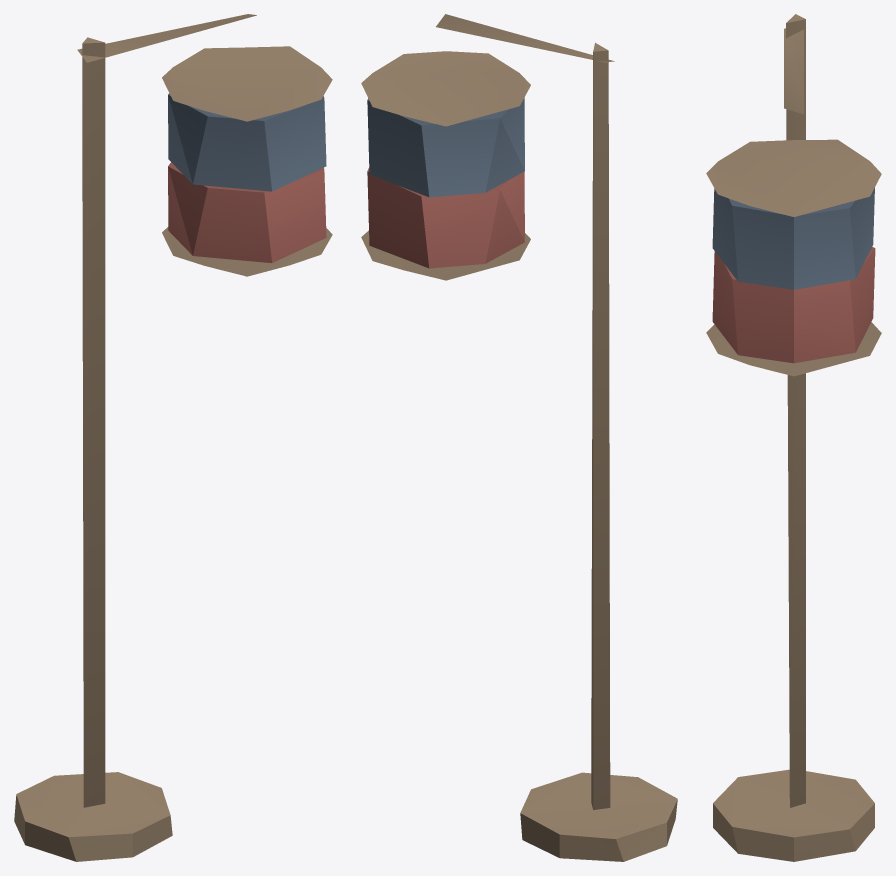
Rendered from furn_cheongsa_lantern__blue_red_low.glb.
3 renders of one model, left to right at view 1: azimuth 30°, elevation 25°; view 2: azimuth 150°, elevation 25°; view 3: azimuth 270°, elevation 25°, orthographic. The views are drawn at different scales.
Bounding box in the file's own units: 0.52 × 1.32 × 0.26.
